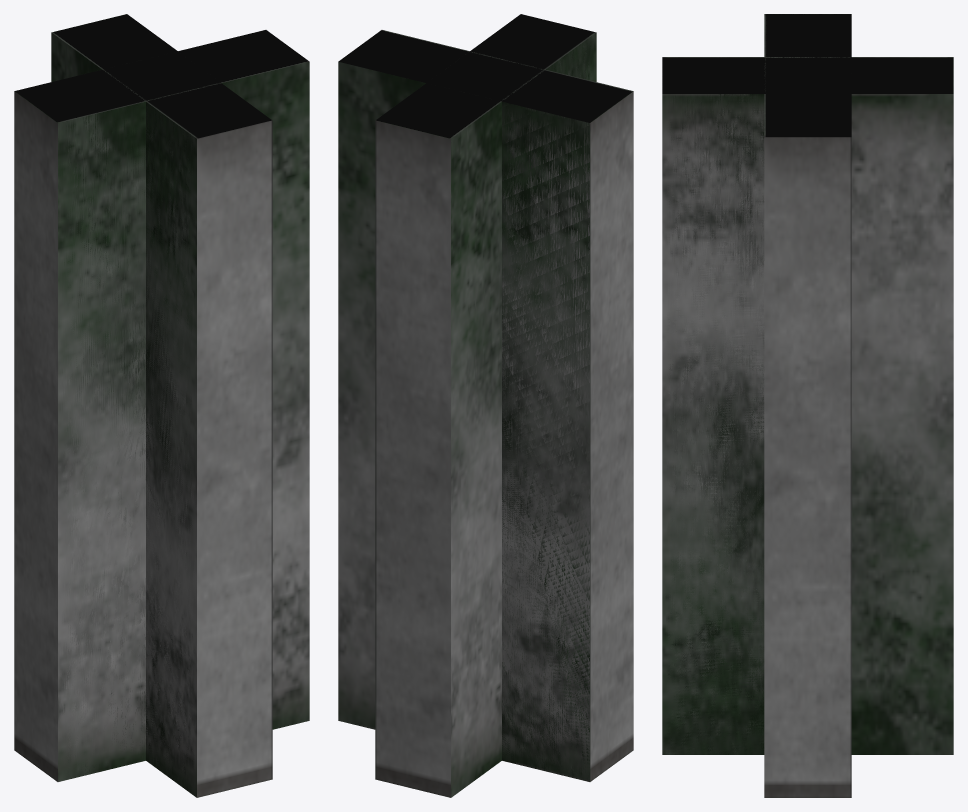
File: Wall_Brick_Rusak_Variant.fbx
3 views of the same model, side by side, from view 1: azimuth 30°, elevation 25°; view 2: azimuth 150°, elevation 25°; view 3: azimuth 270°, elevation 25° (orthographic).
Parts seen in each view (by area): view 1: Wall_Brick_Rusak, Wall X_Brick_Rusak, Wall L_Brick_Rusak, Wall T_Brick_Rusak; view 2: Wall_Brick_Rusak, Wall X_Brick_Rusak, Wall L_Brick_Rusak, Wall T_Brick_Rusak; view 3: Wall X_Brick_Rusak, Wall_Brick_Rusak, Wall L_Brick_Rusak, Wall T_Brick_Rusak.
Part boxes in pixels (x1,y1,x2,y2): Wall_Brick_Rusak: [14, 30, 309, 781]; Wall X_Brick_Rusak: [51, 14, 272, 797]; Wall L_Brick_Rusak: [15, 52, 271, 795]; Wall T_Brick_Rusak: [128, 68, 269, 793]; Wall_Brick_Rusak: [338, 30, 633, 781]; Wall X_Brick_Rusak: [375, 14, 596, 797]; Wall L_Brick_Rusak: [432, 14, 632, 781]; Wall T_Brick_Rusak: [429, 15, 594, 93]; Wall X_Brick_Rusak: [662, 57, 953, 754]; Wall_Brick_Rusak: [764, 14, 851, 797]; Wall L_Brick_Rusak: [662, 14, 851, 754]; Wall T_Brick_Rusak: [662, 57, 849, 754].
Bounding box in the file's own units: 100 × 250 × 100.
